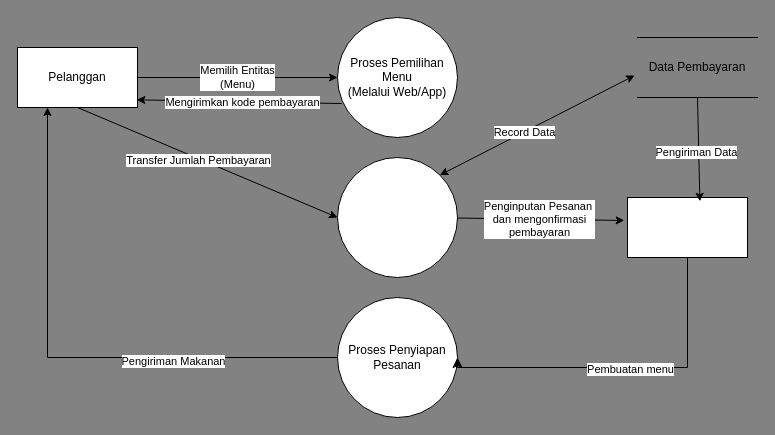
Some shapes in this 775 by 435 pixel diagram are drawn without their labels. The centre of each missing label's shape, as x and y in pixels:
Proses Pembayaran: [397,217]
Restoran: [687,227]
